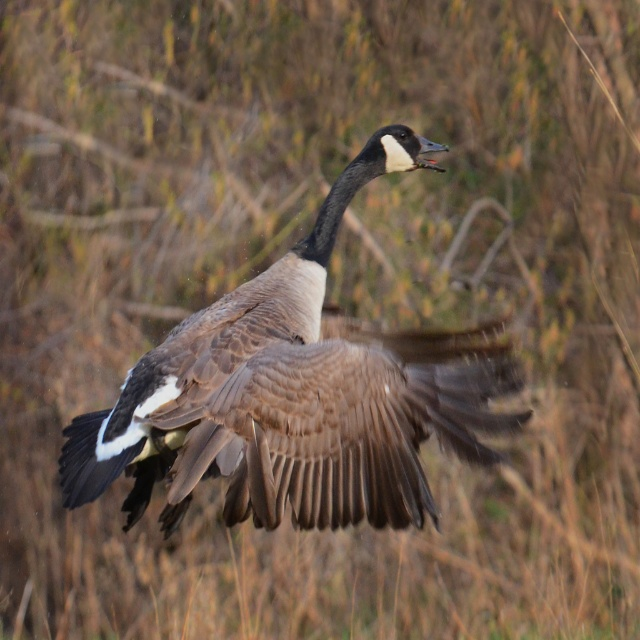Duck: (52, 106, 519, 548)
